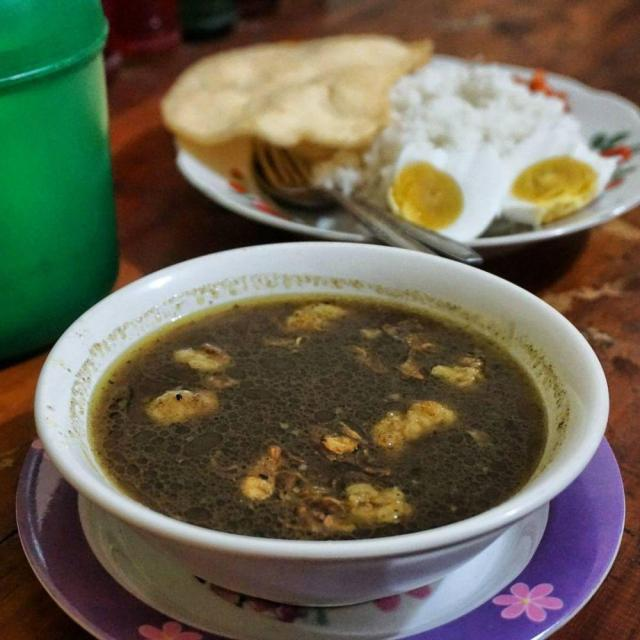Rawon: (100, 281, 545, 530)
